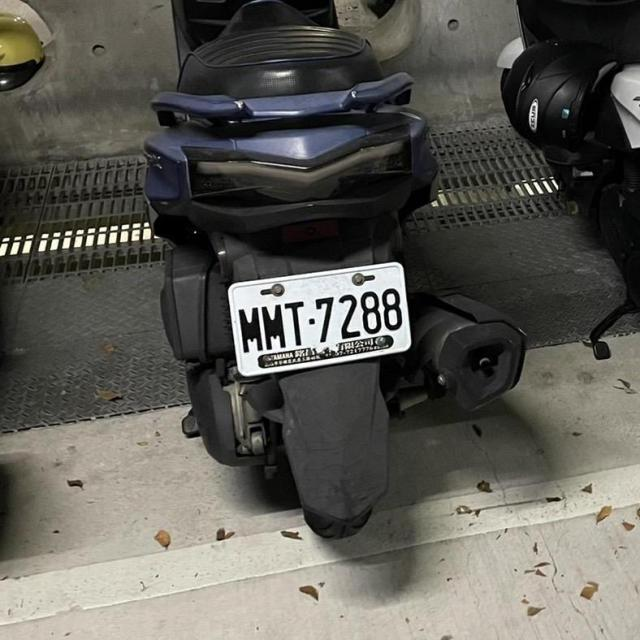W: (222, 261, 418, 377)
